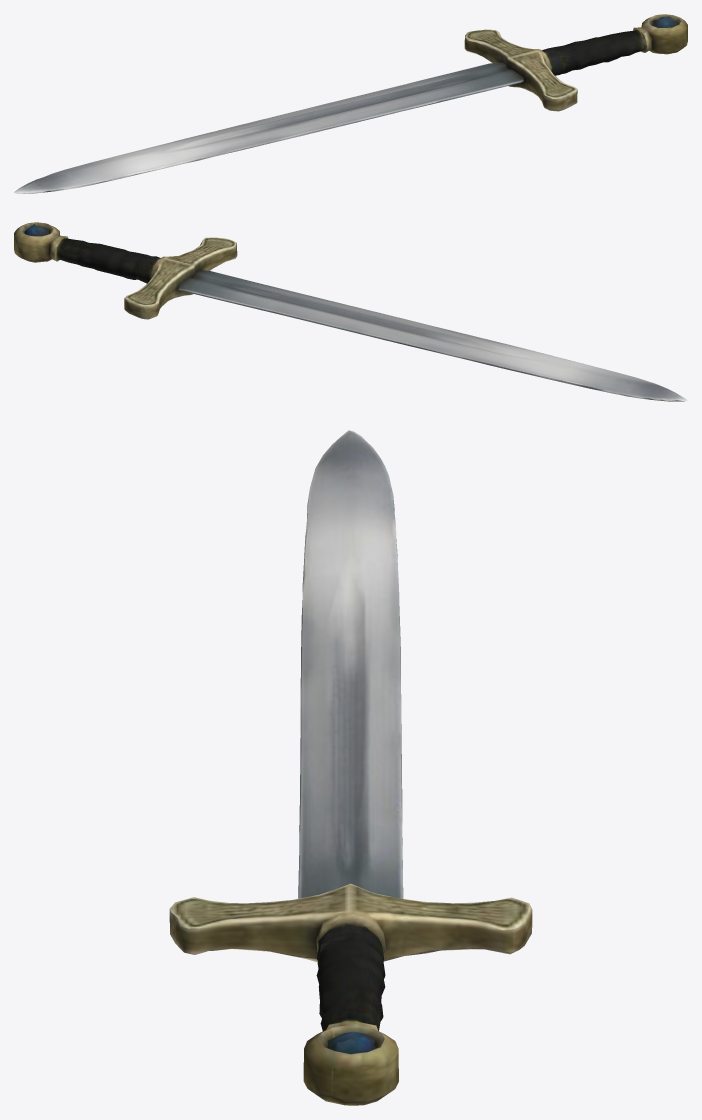
Rendered from excalibur.glb.
3 views of the same model, one above another, from view 1: azimuth 30°, elevation 25°; view 2: azimuth 150°, elevation 25°; view 3: azimuth 270°, elevation 25° (orthographic). The views are drawn at different scales.
Visible parts, largest first — view 1: geom0; view 2: geom0; view 3: geom0.
Boxes of the visible parts, x1=… form: geom0: x1=14, y1=14, x2=687, y2=193; geom0: x1=14, y1=222, x2=687, y2=401; geom0: x1=169, y1=430, x2=532, y2=1105.
Bounding box in the file's own units: 1 × 0.0433 × 0.2349.
Materials: 1 (1 with a texture image).
